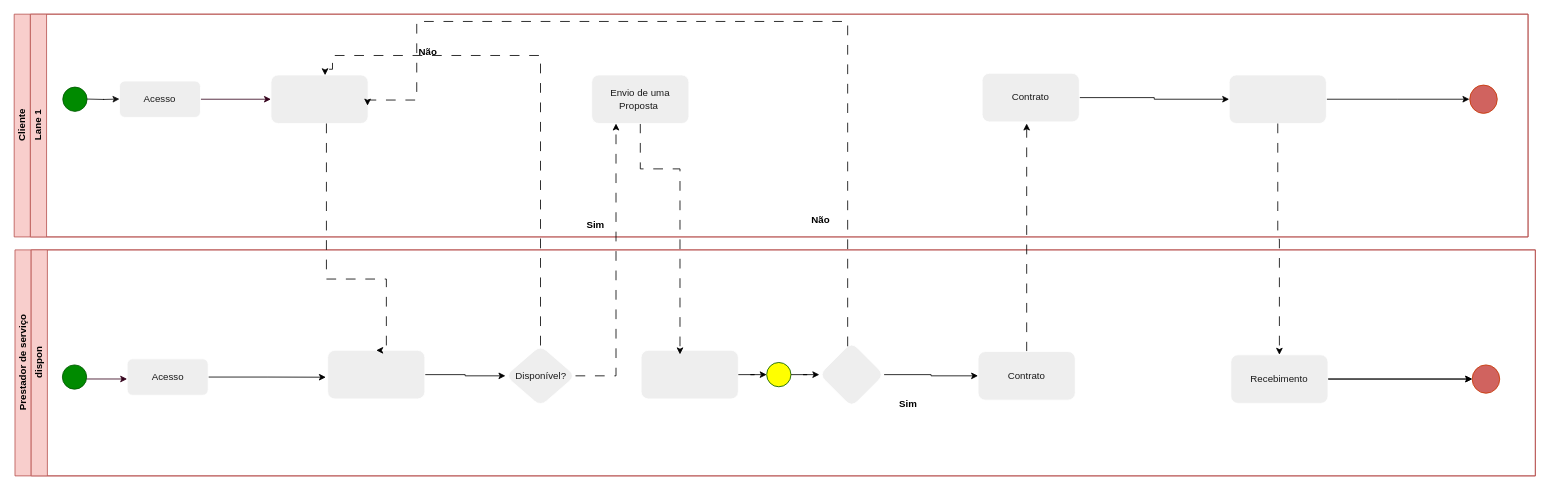
Image size: 1550x490. Some labels were removed from this diagram. Here are the shapes that lost their labels. From the top down, the centre of each, then its label:
the point at 319,99: Pesquisar por um Acompanhante
the point at 1277,99: Pagamento
the point at 376,374: Status de disponibilidade
the point at 689,374: Analise de uma proposta
the point at 851,374: Acordo?
